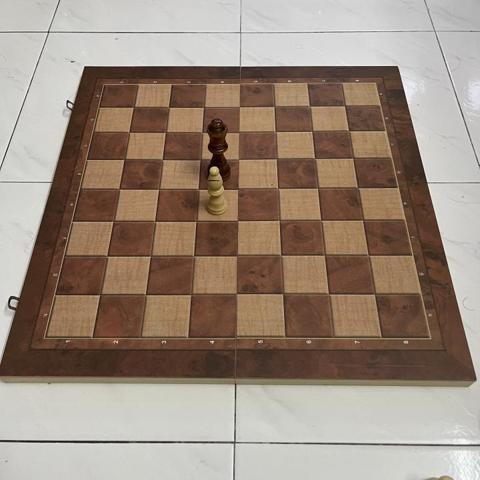xcorner: (336, 98, 352, 114), (301, 98, 317, 114), (266, 98, 282, 114), (230, 99, 246, 115), (195, 99, 211, 115), (160, 99, 176, 115), (125, 99, 141, 115), (340, 123, 356, 139), (303, 123, 319, 139), (267, 124, 283, 140), (230, 124, 246, 140), (194, 124, 210, 140), (157, 124, 173, 140), (121, 124, 137, 140), (344, 151, 360, 167), (306, 151, 322, 167), (268, 151, 284, 167), (230, 151, 246, 167), (192, 151, 208, 167), (154, 152, 170, 168), (116, 152, 132, 168), (349, 180, 365, 196), (309, 181, 325, 197), (269, 181, 285, 197), (230, 181, 246, 197), (190, 181, 206, 197), (150, 181, 166, 197), (111, 181, 127, 197), (354, 213, 370, 229), (312, 213, 328, 229), (271, 213, 287, 229), (229, 213, 245, 229), (188, 213, 204, 229), (147, 213, 163, 229), (105, 214, 121, 230), (316, 248, 332, 264), (272, 248, 288, 264), (229, 248, 245, 264), (186, 249, 202, 265), (99, 249, 115, 265), (320, 287, 336, 303), (274, 287, 290, 303), (229, 287, 245, 303), (183, 287, 199, 303), (138, 287, 154, 303), (93, 287, 109, 303), (360, 248, 375, 264), (143, 249, 158, 265), (366, 287, 381, 303)
